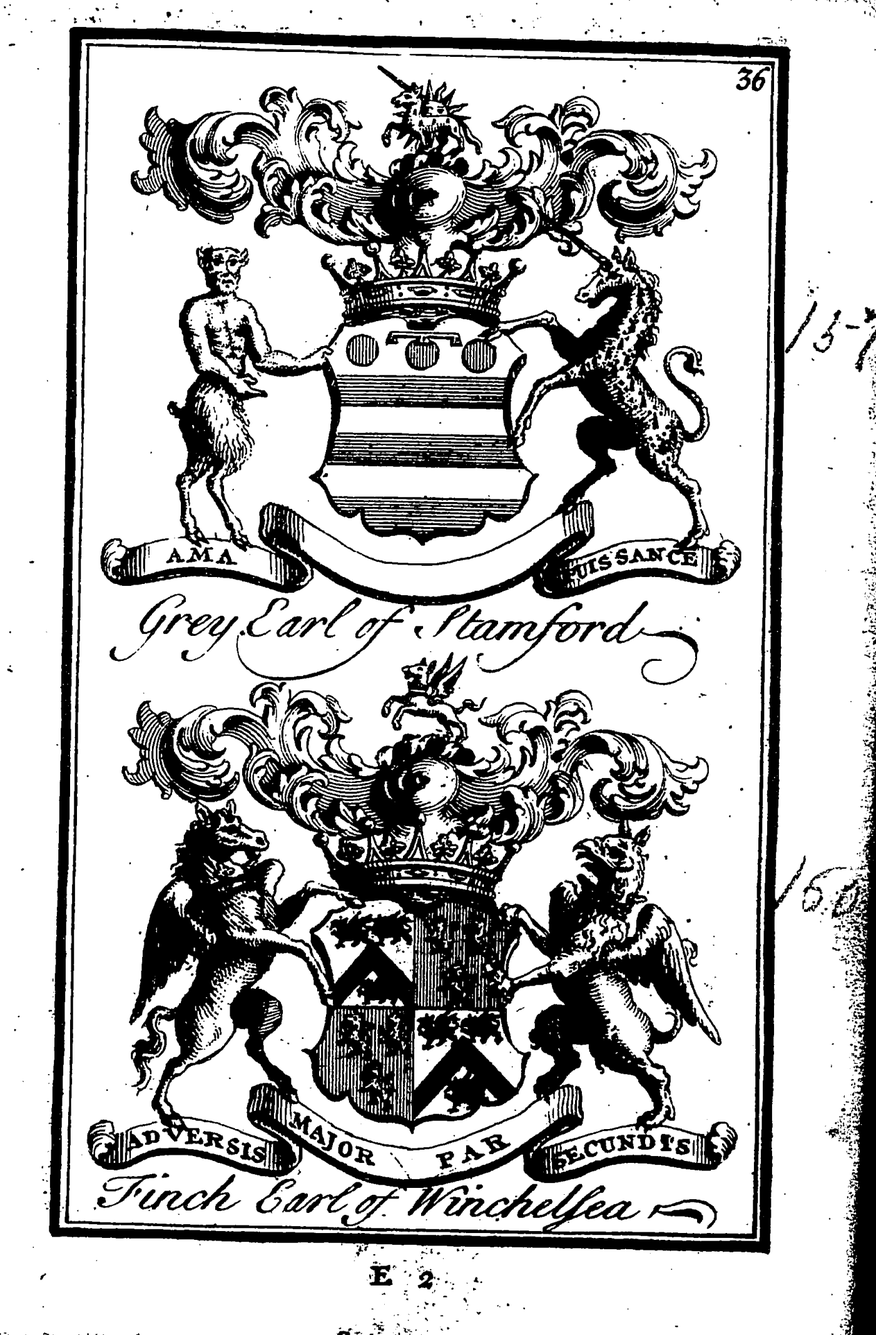coat_of_arms: (113, 59, 738, 666), (117, 657, 729, 1230)
